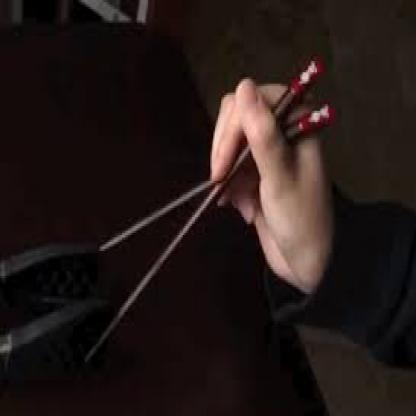chopstick: (83, 54, 324, 362), (101, 102, 338, 251)
